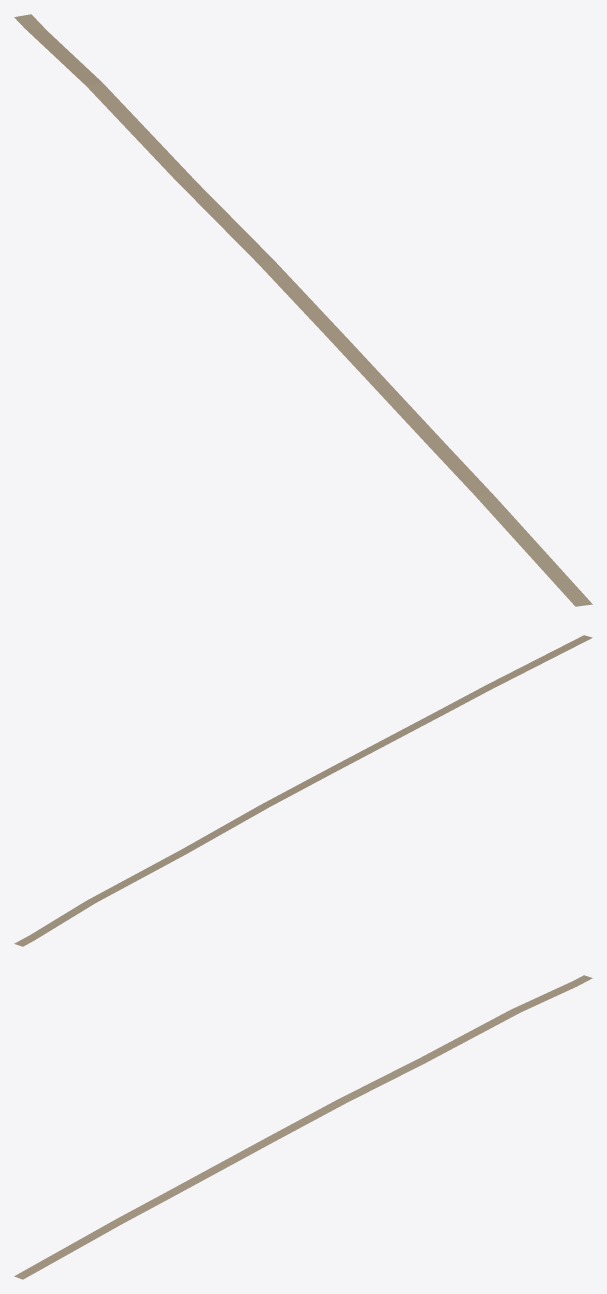
File: farm_17_22_track.glb
3 views of the same model, one above another, from view 1: azimuth 30°, elevation 25°; view 2: azimuth 150°, elevation 25°; view 3: azimuth 330°, elevation 25° (orthographic). The views are drawn at different scales.
Visible parts, largest first — view 1: geometry_0; view 2: geometry_0; view 3: geometry_0.
Boxes of the visible parts, box(x1,y1,x2,y2) form: geometry_0: box(14, 14, 592, 606); geometry_0: box(14, 635, 592, 946); geometry_0: box(14, 975, 592, 1279).
Bounding box in the file's own units: 41.42 × 2.41 × 262.
